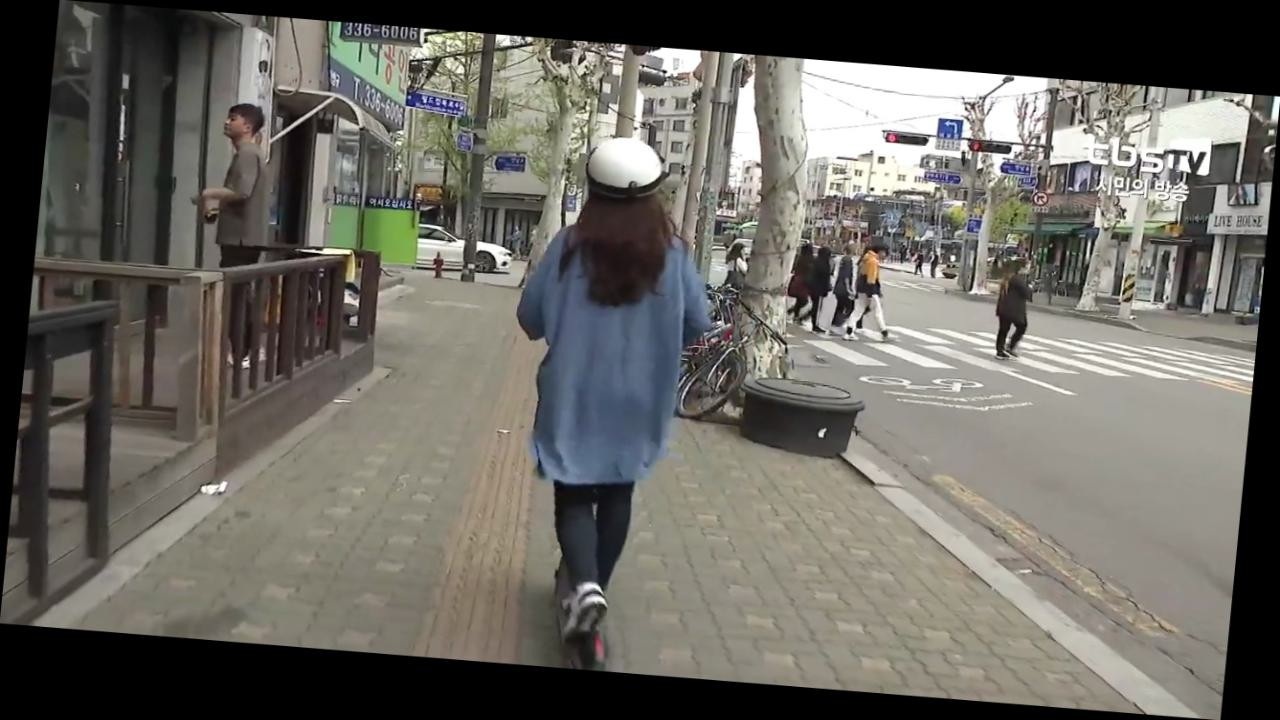helmet: (482, 126, 734, 678)
